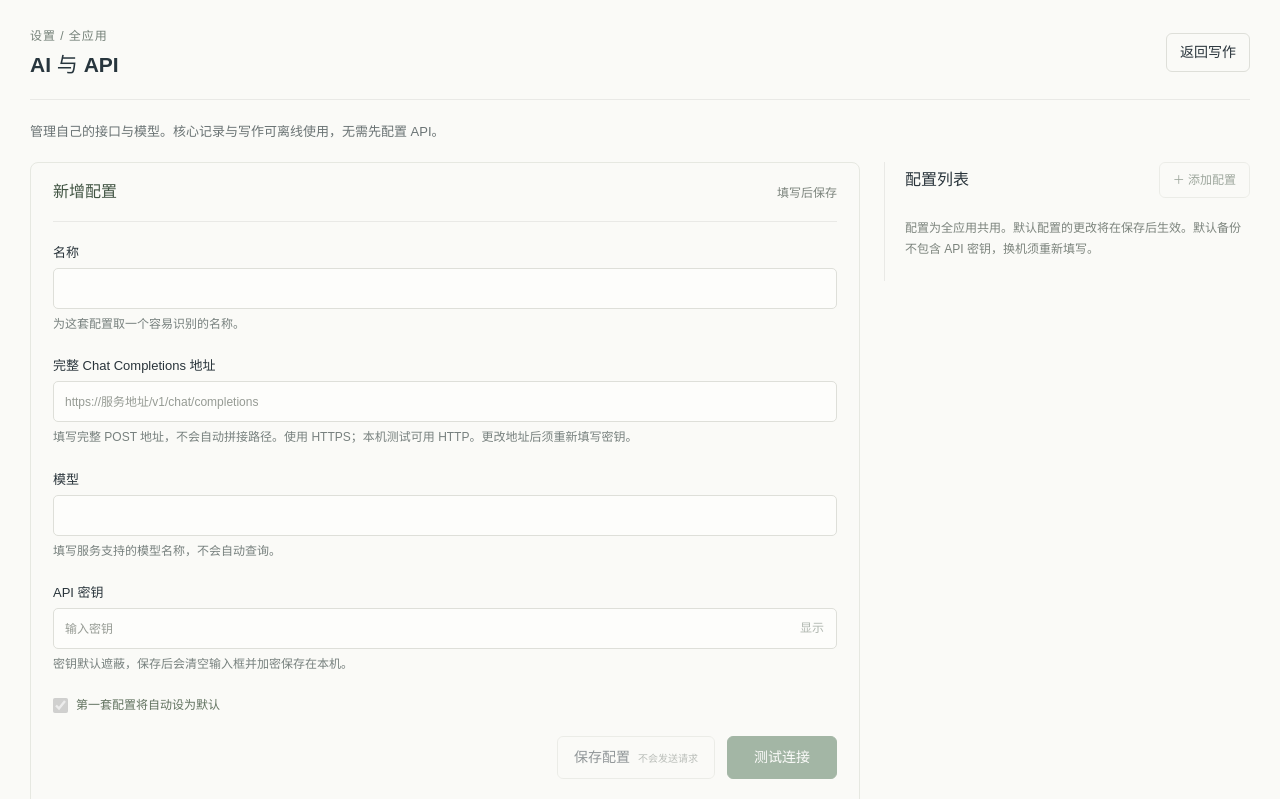
Test case: API settings interactions › can retry a loading failure and return to writing without configuring API
Click the button "返回写作" at (1208, 53), box [1166,33,1250,72]
(page scrolled)
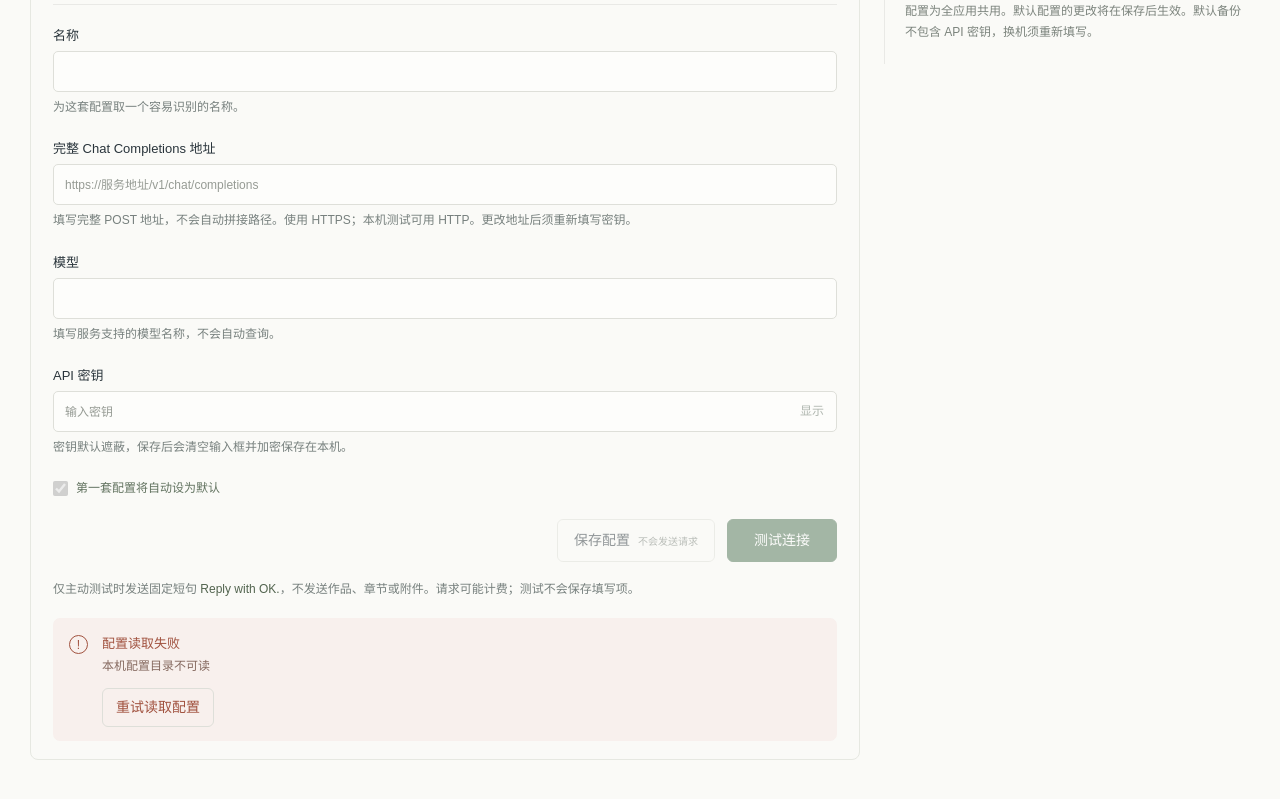
Click the button "重试读取配置" at (158, 708), box [102,688,214,727]
(page scrolled)
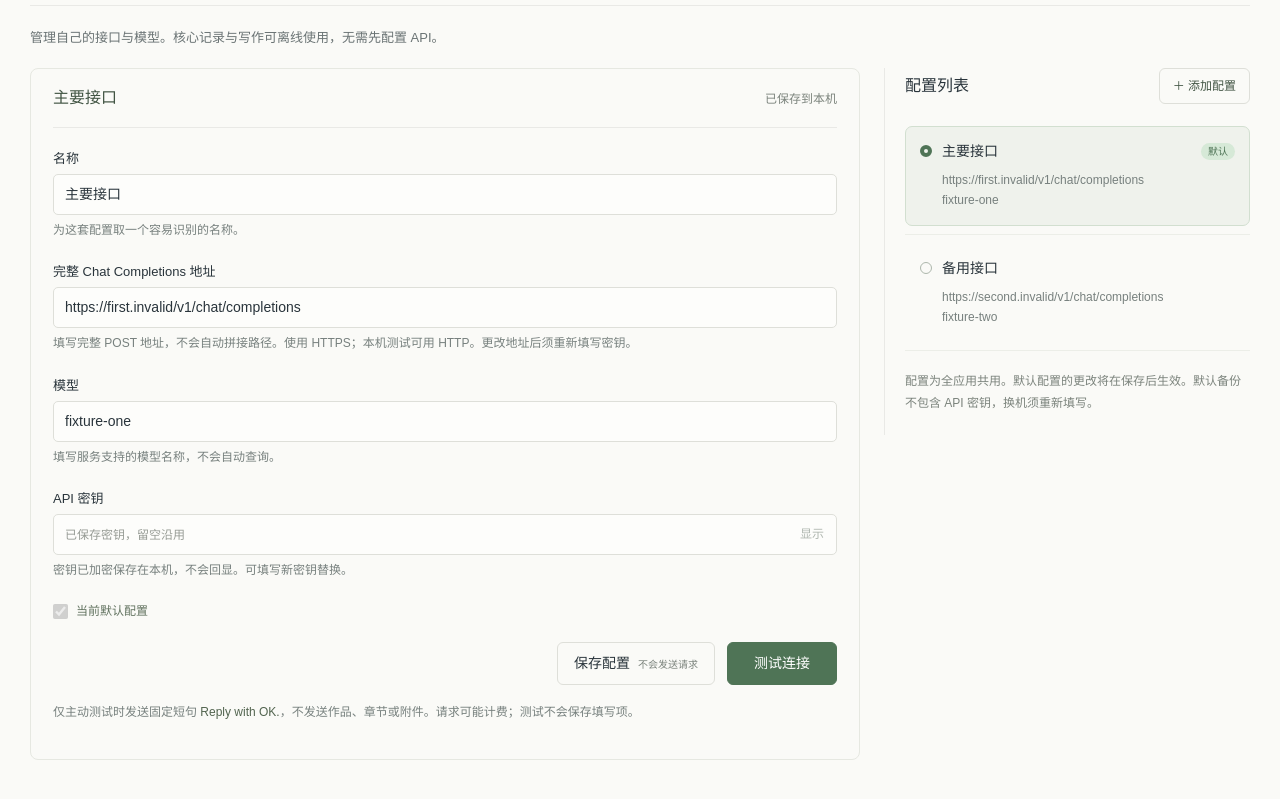
Expected: the message "! 配置读取失败 本机配置目录不可读 重试读取配置" is gone
